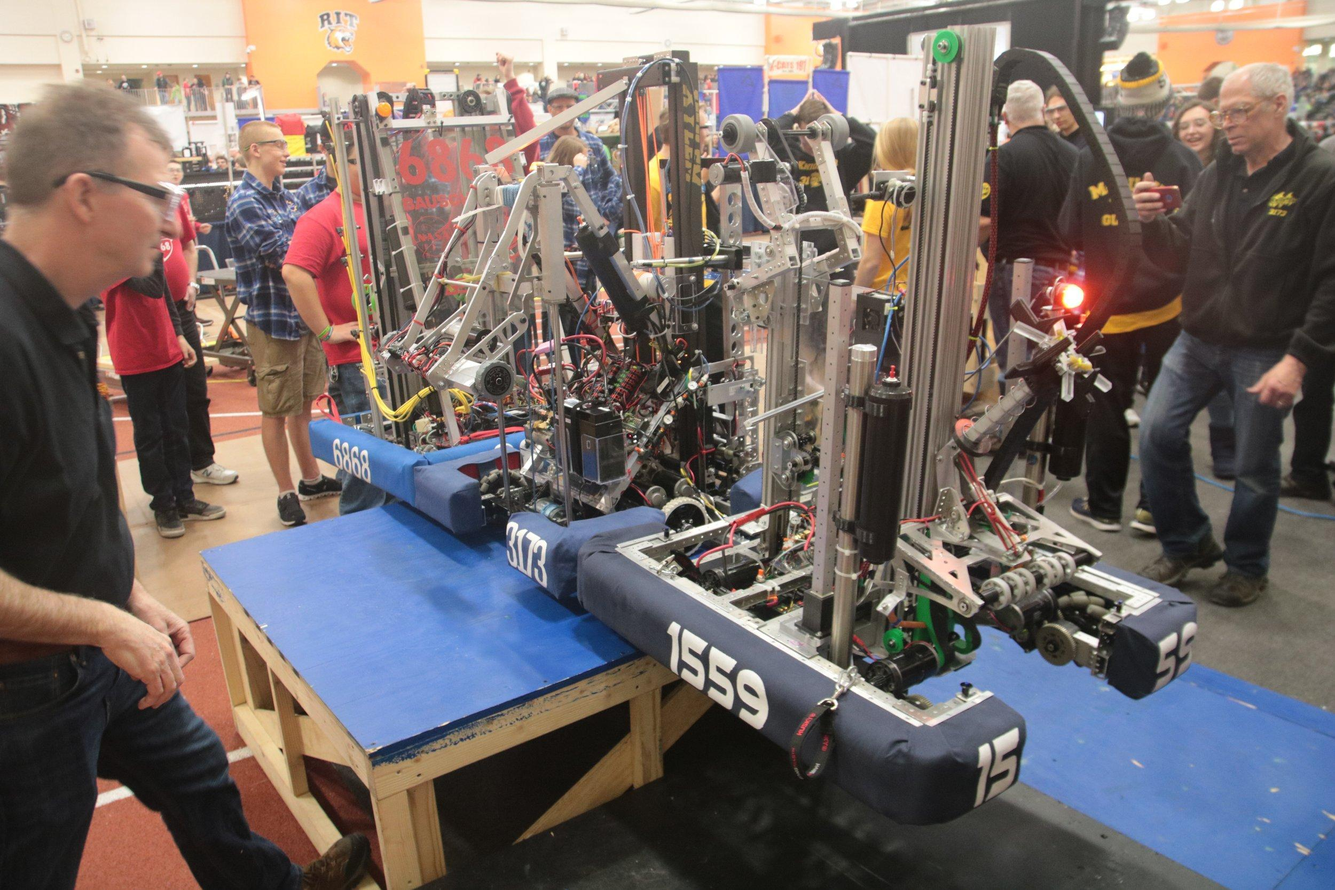robot: (573, 12, 1203, 833), (405, 41, 785, 626), (294, 77, 567, 505)
